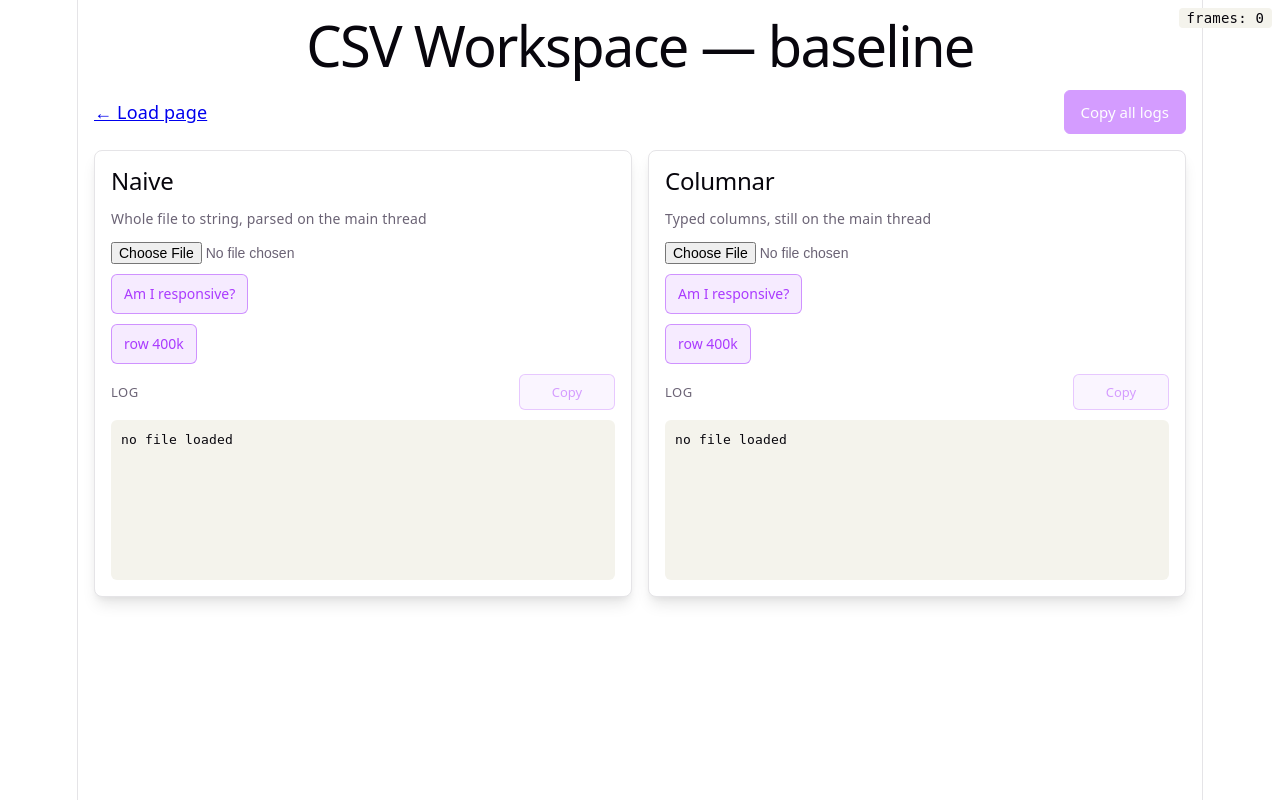
Test: BenchPage › falls back to execCommand outside a secure context
Step 1. Click the button "Am I responsive?" below "Naive" → (180, 294), box [111, 274, 248, 314]
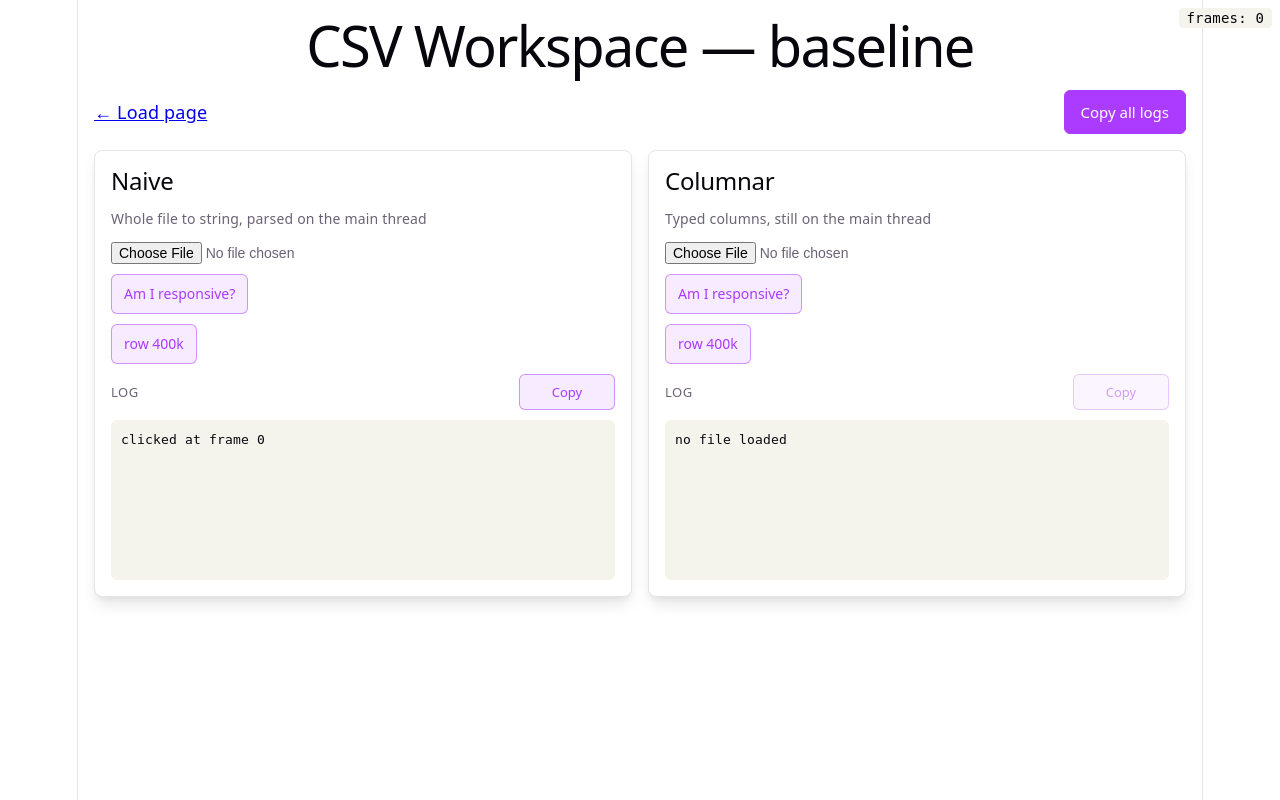
Step 2. Click the 1st button "Copy" → (567, 392), box [519, 374, 615, 410]
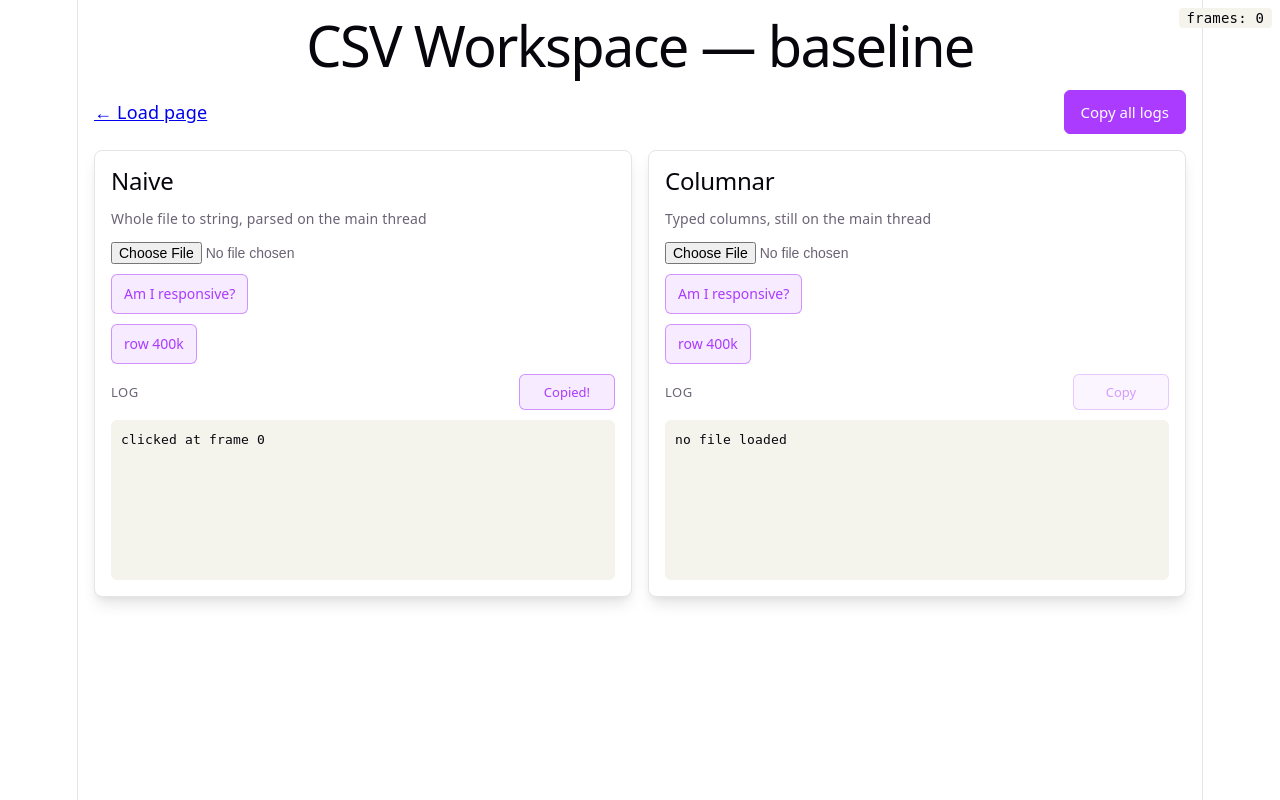
Expected: the button "Copied!" is shown, [519, 374, 615, 410]
